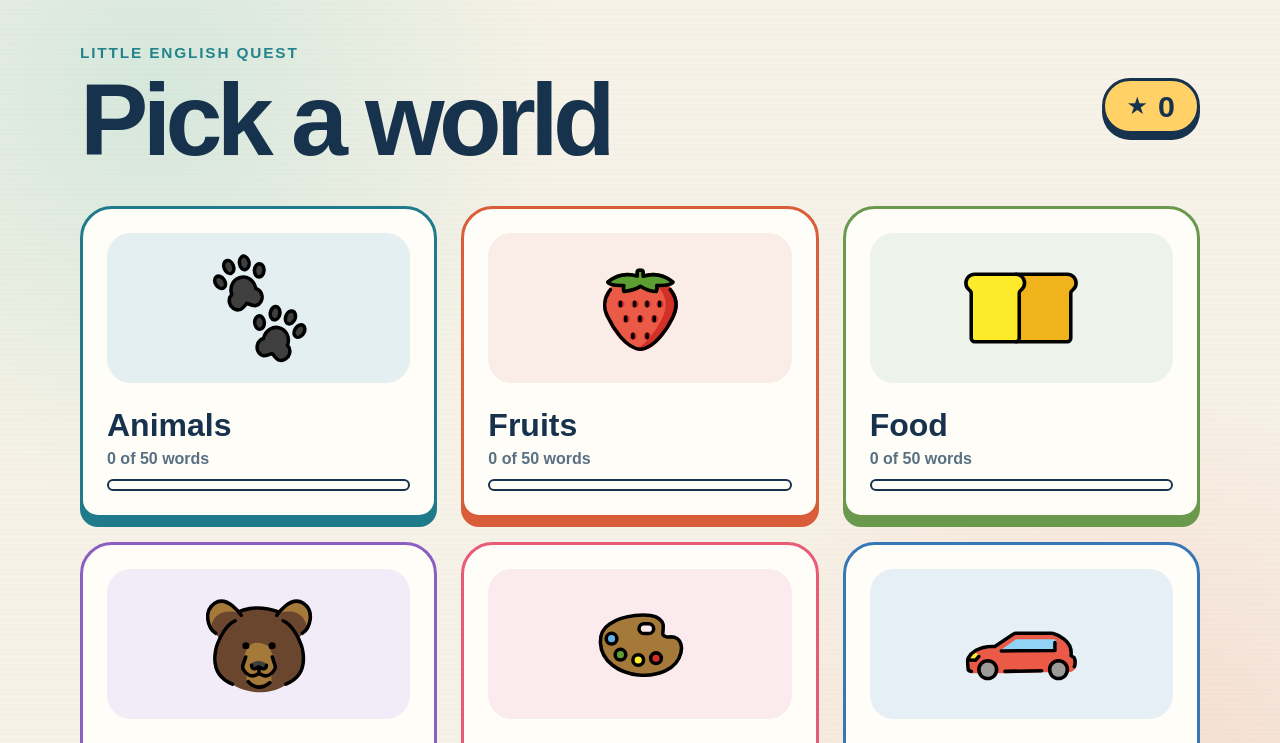
Scenario: App flow › opens a theme and explores all illustrated words
The width and height of the screenshot is (1280, 743).
Click the button "Animals 0 of 50 words".
click(259, 362)  # box x1=80 y1=206 x2=437 y2=518
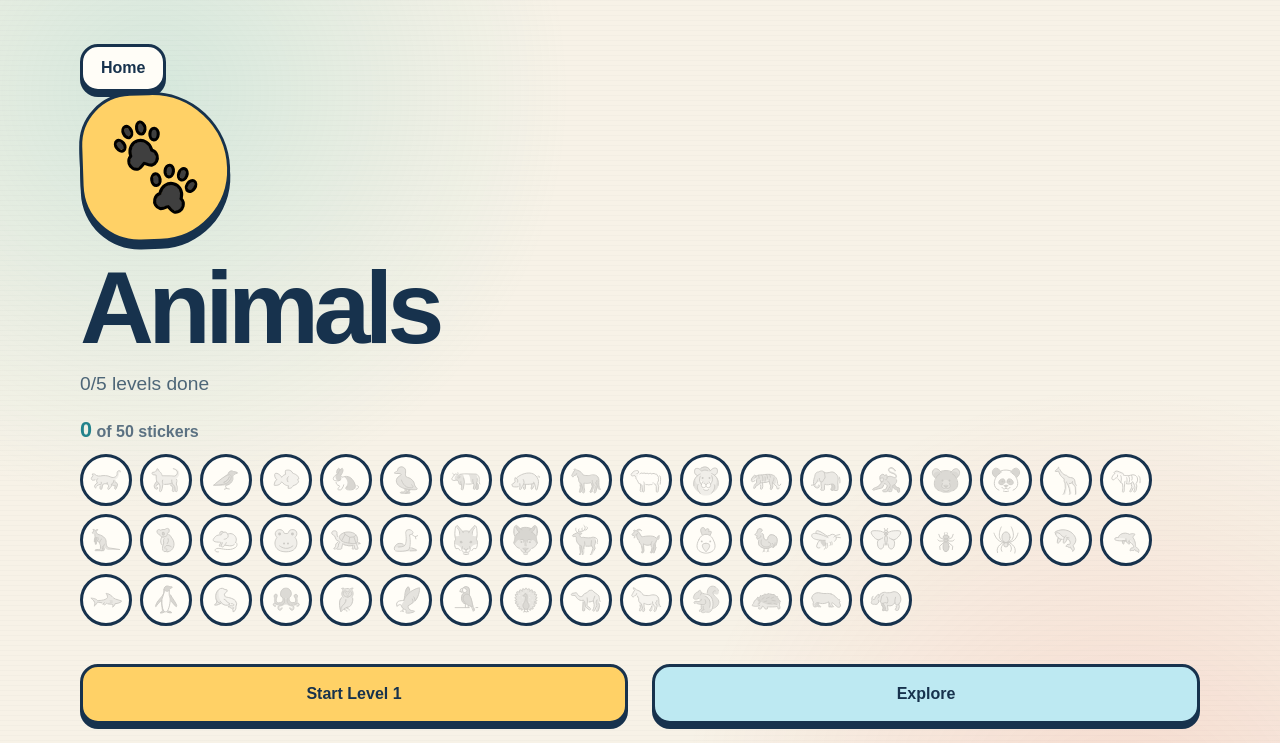
Click the button "Explore".
click(926, 694)  # box x1=652 y1=664 x2=1200 y2=724
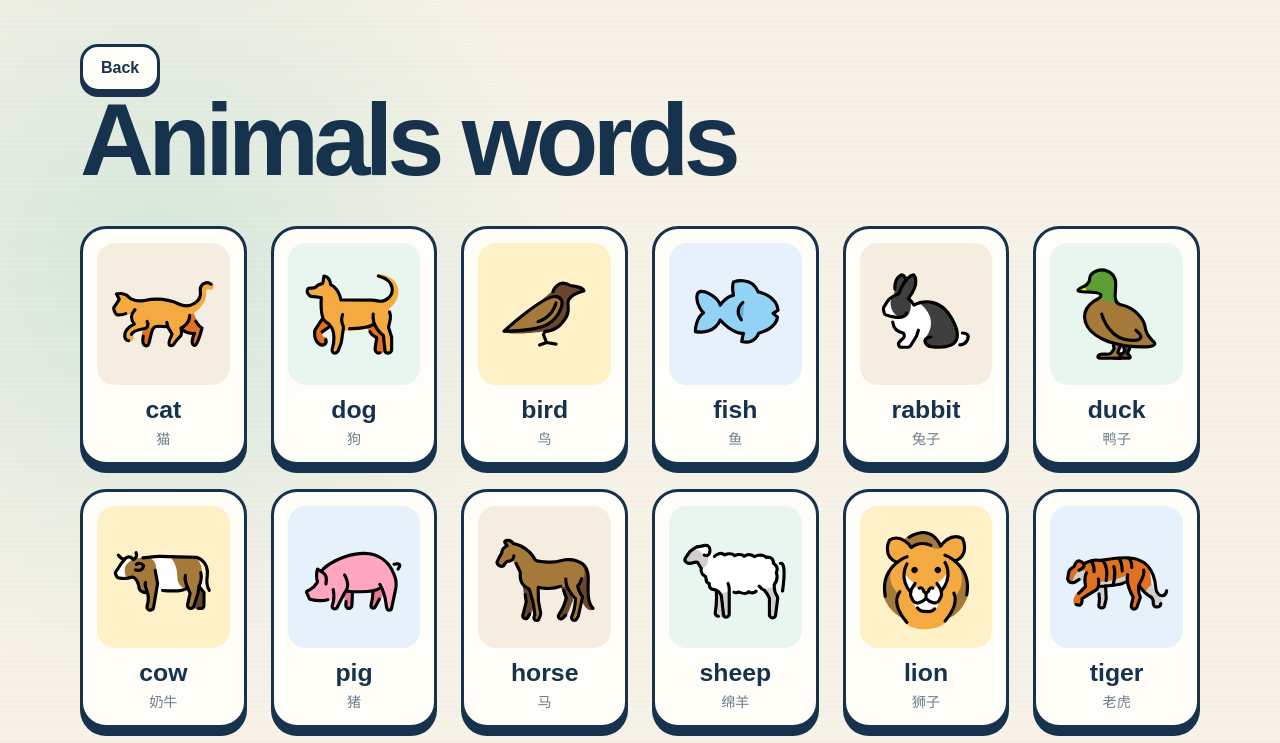
Now the heading "Animals words" is shown, box x1=80 y1=92 x2=820 y2=188
Now the number of buttons named "Say " is 50
Now the number of pictures is 50
